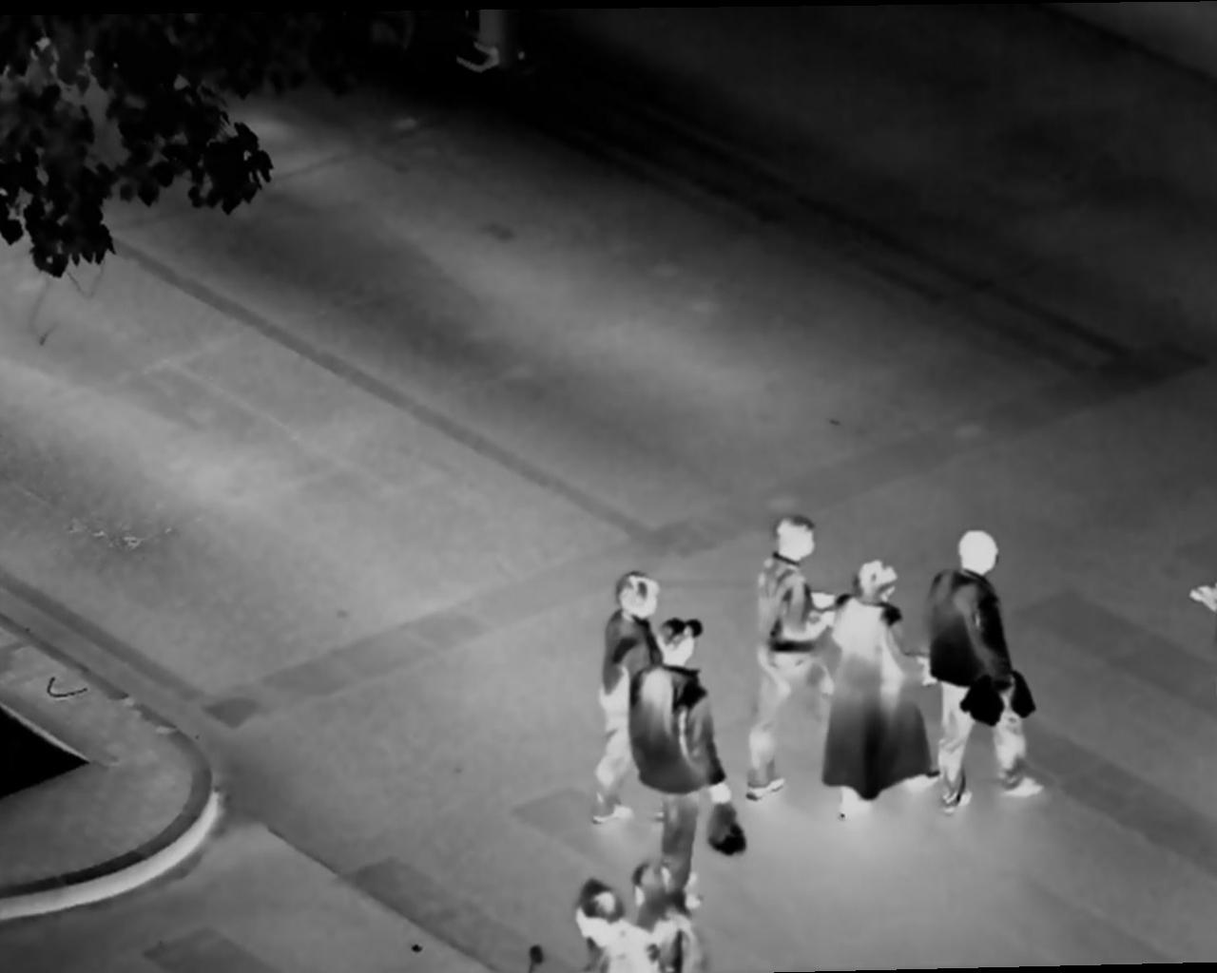person: (932, 525, 1044, 806), (826, 558, 935, 811), (649, 621, 733, 871), (750, 518, 825, 770), (607, 575, 653, 830), (573, 872, 648, 973), (631, 864, 698, 973)
